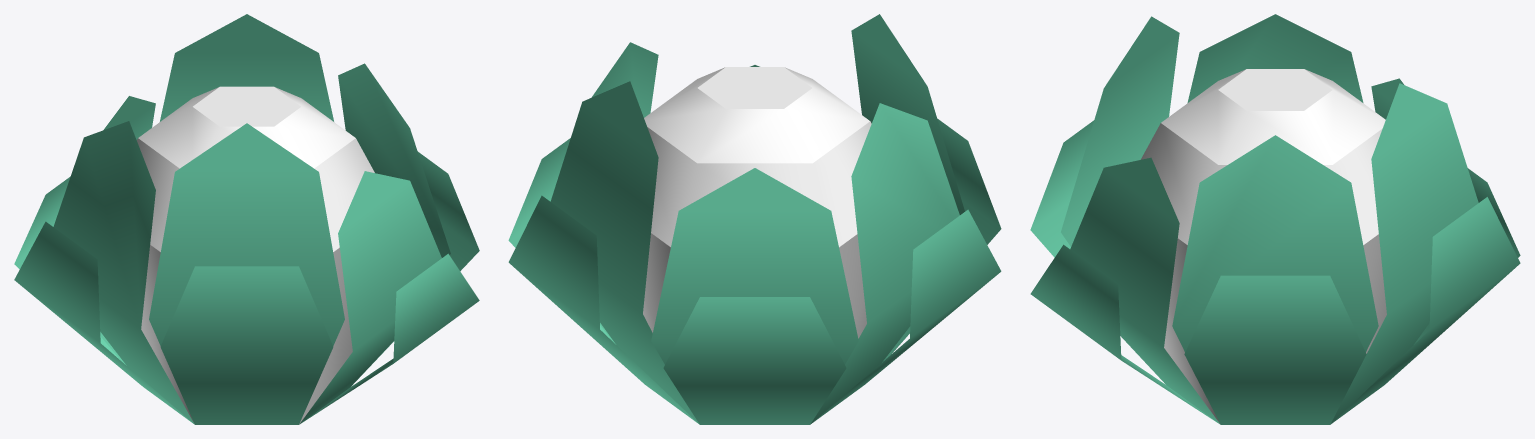
The model's file is cauliflower.dae.
The picture shows the model from 3 angles, left to right: view 1: azimuth 30°, elevation 25°; view 2: azimuth 150°, elevation 25°; view 3: azimuth 270°, elevation 25°; orthographic projection. The views are drawn at different scales.
Visible parts, largest first — view 1: cauliflower; view 2: cauliflower; view 3: cauliflower.
Boxes of the visible parts, <box> form: cauliflower: <box>14,14,479,424</box>; cauliflower: <box>508,14,1001,424</box>; cauliflower: <box>1030,14,1520,424</box>.
Size of the model in its own units: 0.3794 by 0.3074 by 0.4036.
